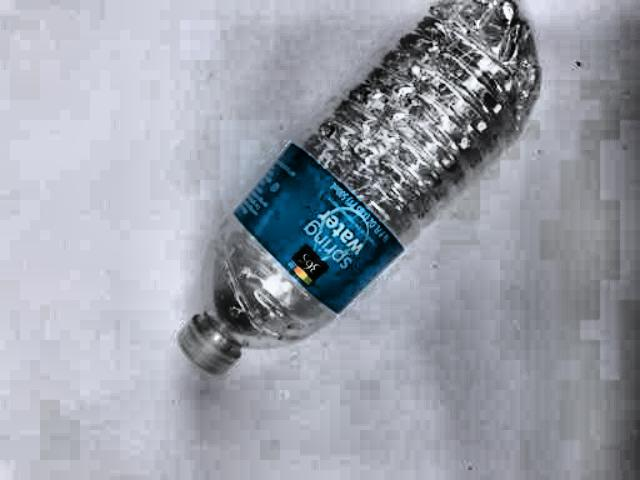Bottles: (186, 0, 604, 405)
